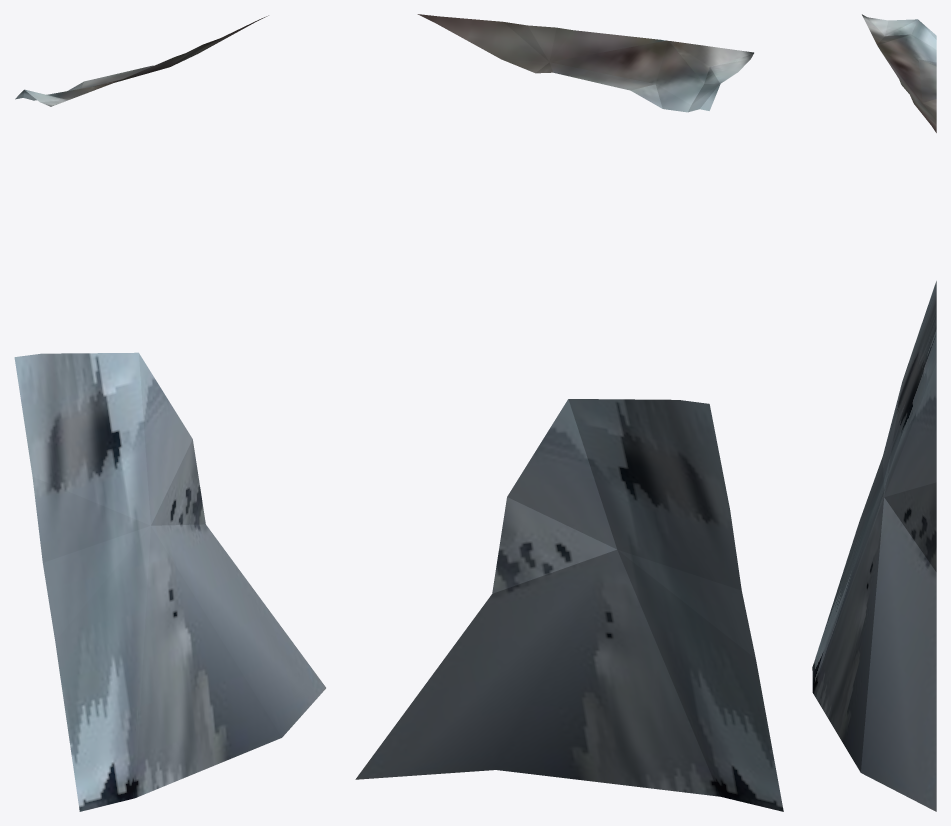
3 renders of one model, left to right at view 1: azimuth 30°, elevation 25°; view 2: azimuth 150°, elevation 25°; view 3: azimuth 270°, elevation 25°, orthographic. The views are drawn at different scales.
Size of the model in its own units: 0.3978 by 0.8374 by 0.1442.
1 material, 1 textured.
